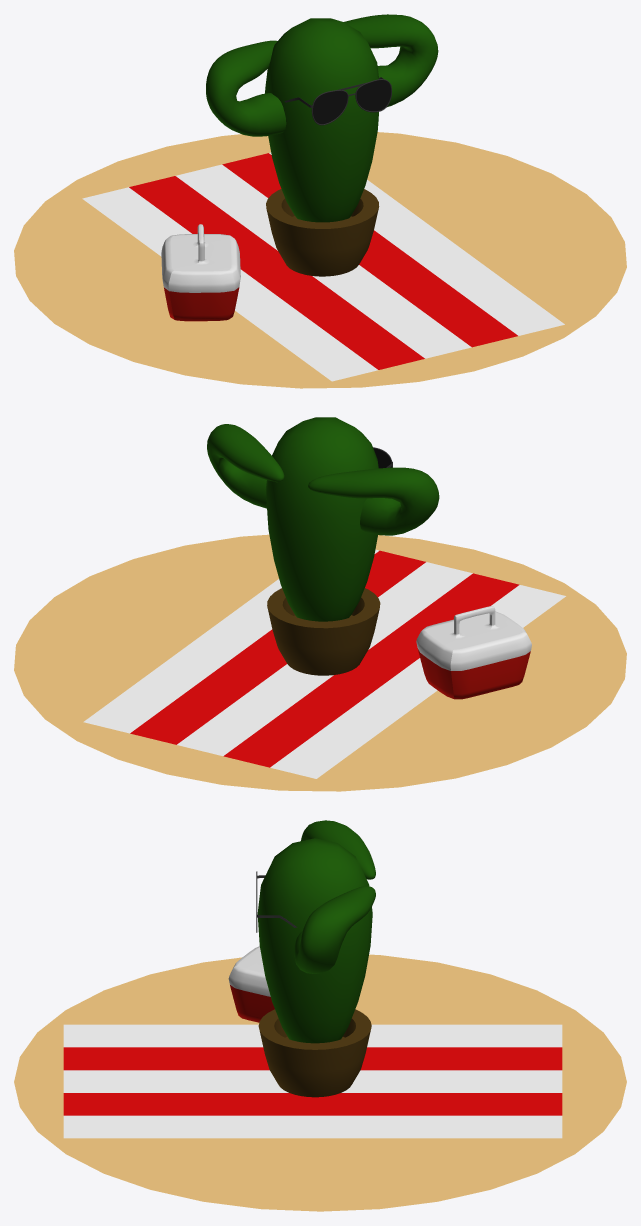
3 renders of one model, top to bottom at view 1: azimuth 30°, elevation 25°; view 2: azimuth 150°, elevation 25°; view 3: azimuth 270°, elevation 25°, orthographic.
Parts seen in each view (by area): view 1: Arena, Toalla, Cactus, Brazos, Hielera, Maceta, Lentes; view 2: Arena, Toalla, Cactus, Brazos, Hielera, Maceta; view 3: Arena, Toalla, Cactus, Maceta, Brazos, Hielera.
Boxes of the visible parts, x1,y1,x2,y2 form: Arena: (14, 132, 626, 388); Toalla: (82, 152, 564, 381); Cactus: (265, 18, 378, 222); Brazos: (206, 14, 438, 136); Hielera: (161, 224, 240, 321); Maceta: (266, 189, 379, 276); Lentes: (284, 77, 391, 125); Arena: (14, 534, 626, 791); Toalla: (83, 549, 565, 778); Cactus: (265, 417, 378, 621); Brazos: (207, 424, 439, 535); Hielera: (416, 606, 531, 699); Maceta: (267, 588, 380, 675); Arena: (14, 954, 626, 1211); Toalla: (63, 1024, 562, 1138); Cactus: (257, 838, 372, 1043); Maceta: (258, 1009, 371, 1097); Brazos: (294, 820, 375, 973); Hielera: (228, 946, 274, 1022).
Bounding box in the file's own units: 11.37 × 4.87 × 11.37.
